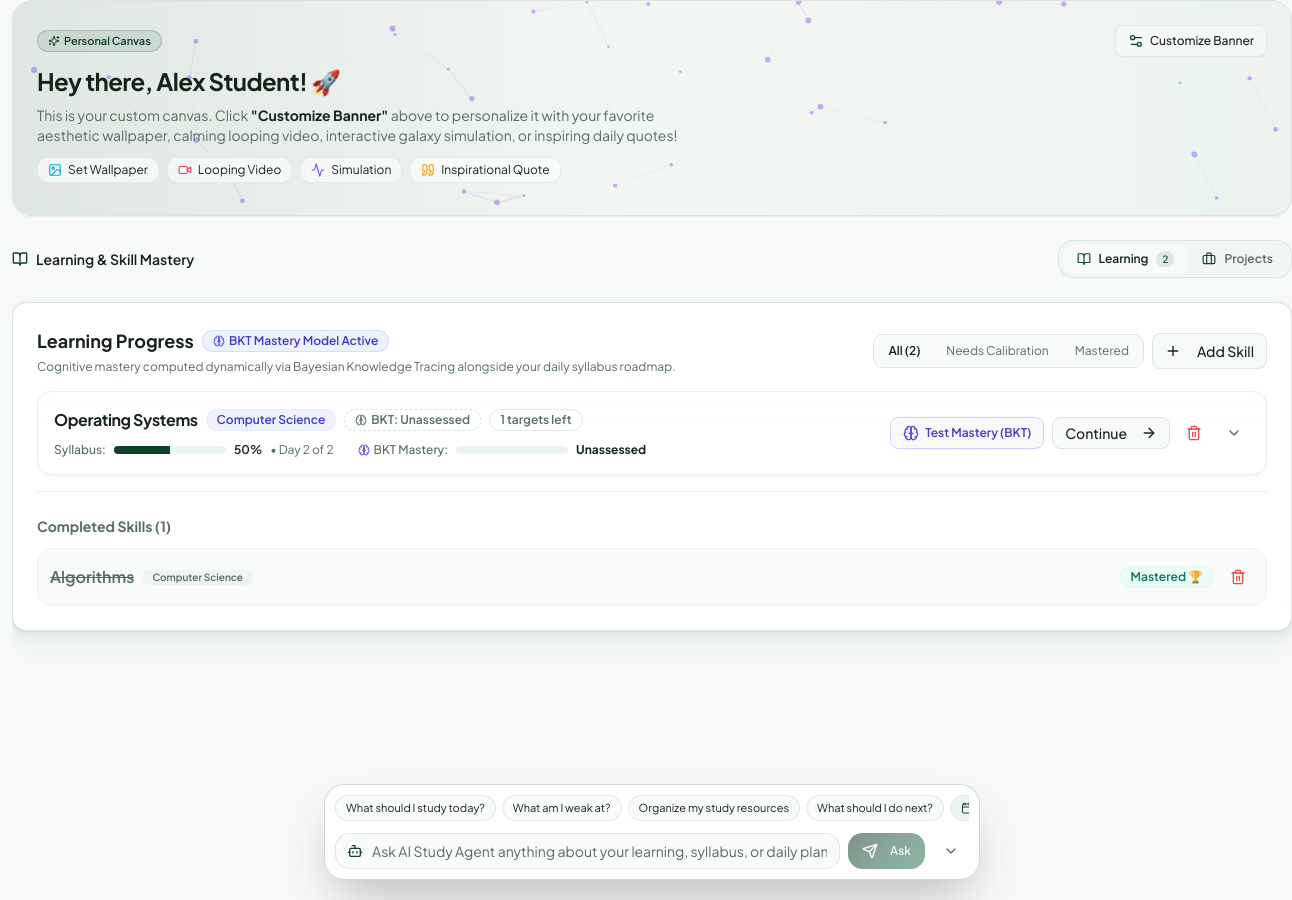
Learning Progress Bayesian Knowledge Tracing (BKT) Integration › toggles between Learning and Projects views below wallpaper
Check: the heading "Learning Progress" is shown, box x1=37 y1=327 x2=194 y2=355
Check: the text "Active Projects" is not shown
Click the button "Projects".
click(1238, 259)  # box x1=1188 y1=245 x2=1287 y2=273
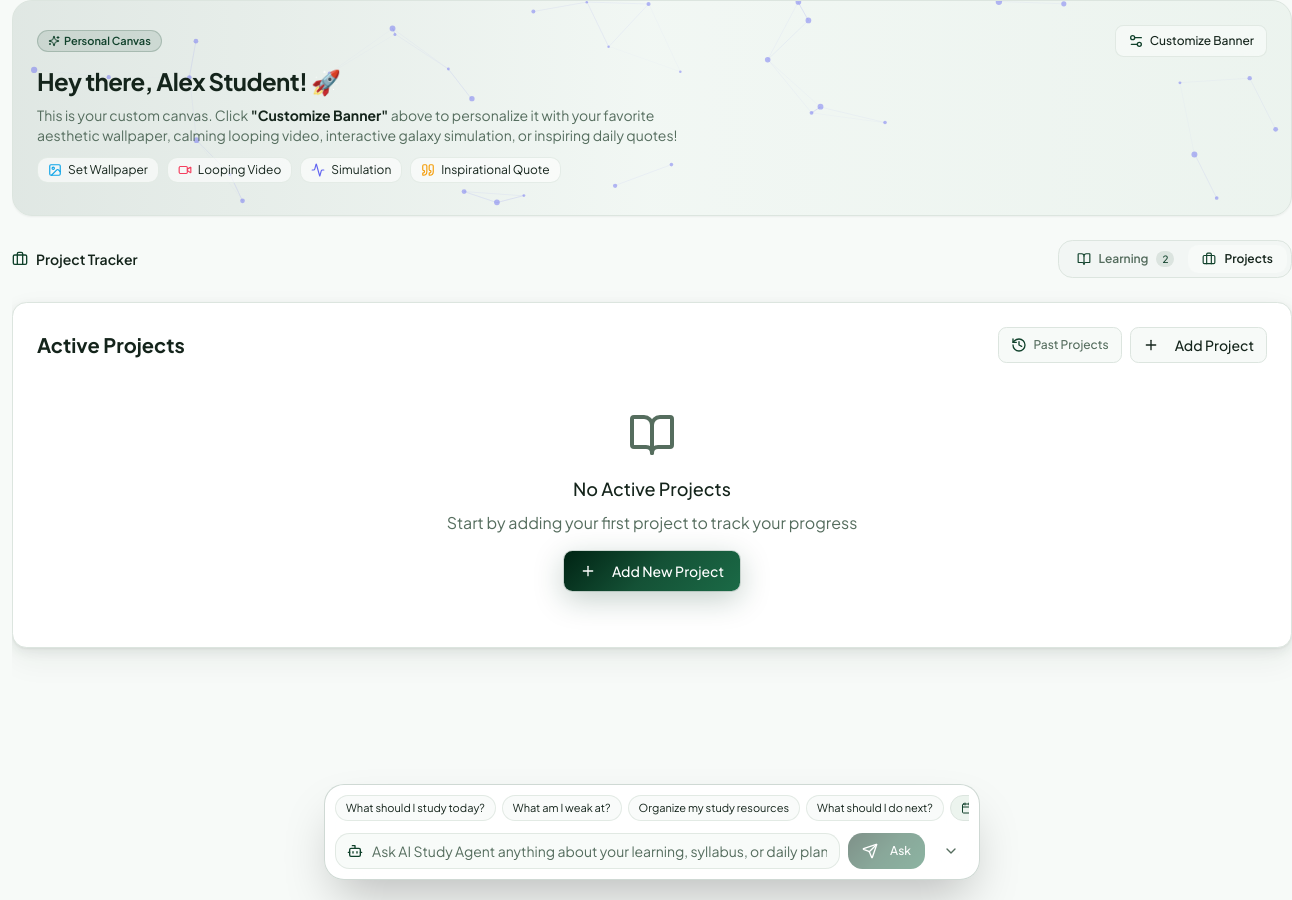
Check: the heading "Learning Progress" is gone
Check: the heading "Active Projects" is shown, box x1=37 y1=331 x2=185 y2=359
Click the button "Learning 2".
click(1126, 259)  # box x1=1063 y1=245 x2=1188 y2=273
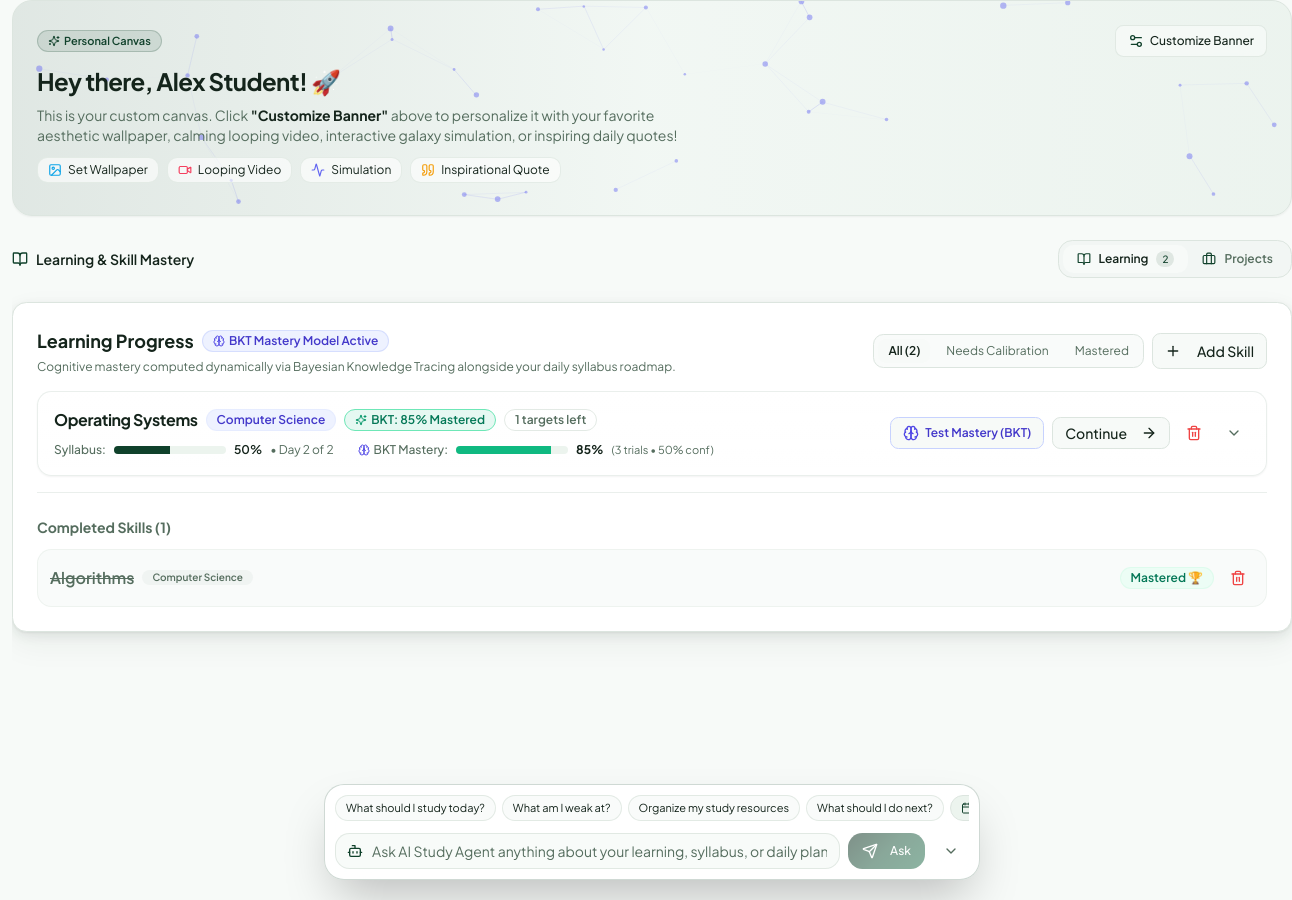
Check: the heading "Learning Progress" is shown, box x1=37 y1=327 x2=194 y2=355
Check: the heading "Active Projects" is gone
